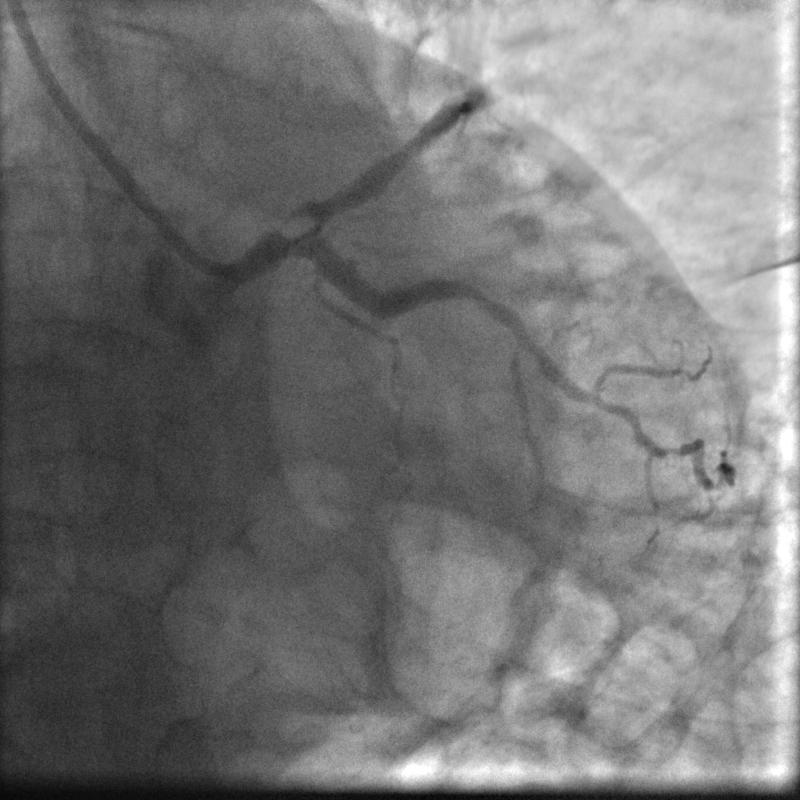Stenosis: (271, 196, 334, 250)
